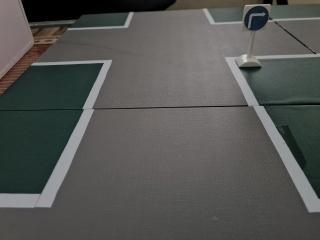right: (240, 1, 273, 36)
